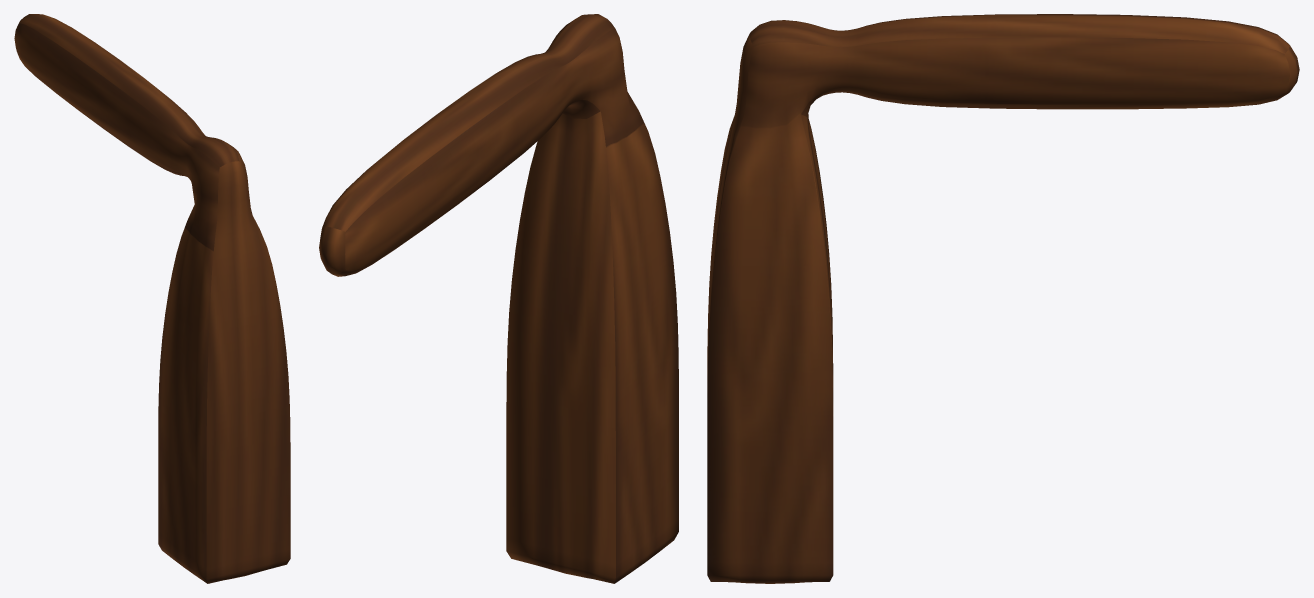
File: rudder 1.fbx
3 views of the same model, side by side, from view 1: azimuth 30°, elevation 25°; view 2: azimuth 150°, elevation 25°; view 3: azimuth 270°, elevation 25° (orthographic). The views are drawn at different scales.
Parts seen in each view (by area): view 1: Cube; view 2: Cube; view 3: Cube.
Boxes of the visible parts, left/top/right/bottom form: Cube: left=14, top=14, right=290, bottom=583; Cube: left=319, top=14, right=678, bottom=583; Cube: left=707, top=14, right=1299, bottom=583.
Bounding box in the file's own units: 69.98 × 337 × 329.
